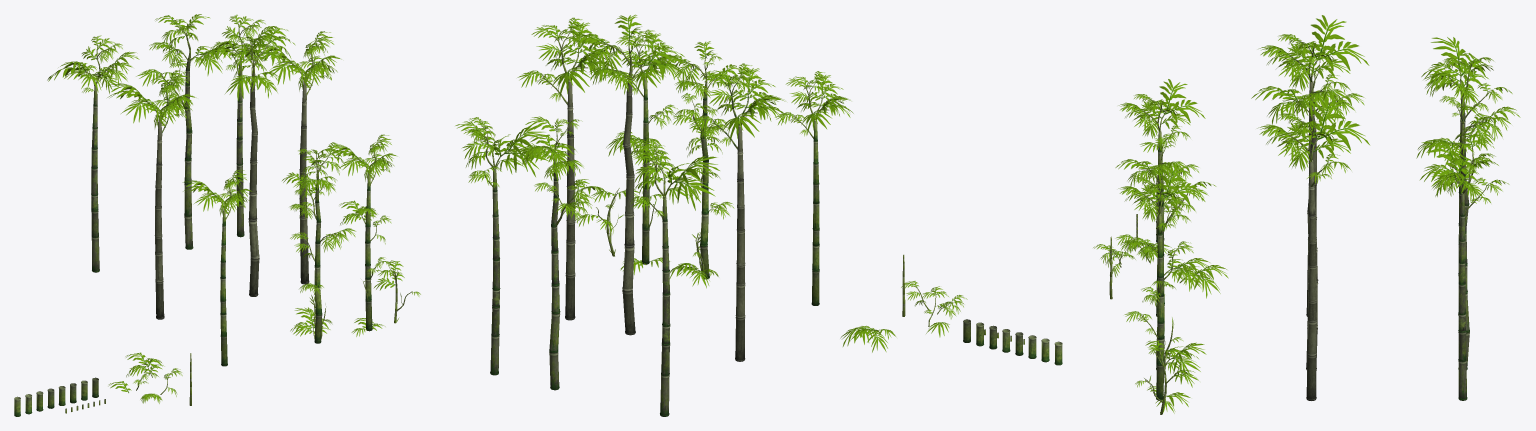
3 renders of one model, left to right at view 1: azimuth 30°, elevation 25°; view 2: azimuth 150°, elevation 25°; view 3: azimuth 270°, elevation 25°, orthographic. The views are drawn at different scales.
Parts seen in each view (by area): view 1: bambooBlock.016_13, bambooBlock.010_19, bambooBlock.013_16, bambooBlock.011_18, bambooBlock.009_20, bambooBlock.014_15, bambooBlock.015_14, bambooBlock.012_17, bambooBlock.008_21, bambooBranch.008_4, bambooBranch.020_0; view 2: bambooBlock.010_19, bambooBlock.011_18, bambooBlock.009_20, bambooBlock.016_13, bambooBlock.014_15, bambooBlock.013_16, bambooBlock.012_17, bambooBlock.015_14, bambooBlock.008_21, bambooBranch.008_4, bambooBranch.020_0; view 3: bambooBlock.009_20, bambooBlock.015_14, bambooBlock.016_13, bambooBlock.012_17, bambooBlock.011_18, bambooBlock.010_19, bambooBlock.013_16, bambooBlock.014_15, bambooBlock.008_21, bambooBranch.008_4, bambooBranch.020_0.
Part boxes in pixels (x1,y1,x2,y2): bambooBlock.016_13: (282, 142, 356, 343); bambooBlock.010_19: (225, 26, 295, 296); bambooBlock.013_16: (136, 14, 232, 249); bambooBlock.011_18: (106, 70, 196, 319); bambooBlock.009_20: (250, 31, 341, 284); bambooBlock.014_15: (47, 35, 139, 272); bambooBlock.015_14: (327, 134, 397, 336); bambooBlock.012_17: (198, 14, 279, 237); bambooBlock.008_21: (182, 170, 252, 366); bambooBranch.008_4: (374, 260, 420, 323); bambooBranch.020_0: (125, 352, 164, 377); bambooBlock.010_19: (566, 14, 685, 335); bambooBlock.011_18: (688, 63, 788, 361); bambooBlock.009_20: (517, 17, 615, 320); bambooBlock.016_13: (658, 41, 744, 288); bambooBlock.014_15: (629, 139, 719, 416); bambooBlock.013_16: (518, 116, 610, 390); bambooBlock.012_17: (455, 117, 550, 375); bambooBlock.015_14: (606, 29, 681, 274); bambooBlock.008_21: (775, 71, 853, 305); bambooBranch.008_4: (575, 188, 639, 256); bambooBranch.020_0: (840, 325, 895, 352); bambooBlock.009_20: (1257, 96, 1369, 400); bambooBlock.015_14: (1118, 162, 1211, 413); bambooBlock.016_13: (1115, 133, 1216, 380); bambooBlock.012_17: (1419, 139, 1509, 400); bambooBlock.011_18: (1259, 15, 1369, 316); bambooBlock.010_19: (1251, 52, 1364, 369); bambooBlock.013_16: (1416, 95, 1520, 369); bambooBlock.014_15: (1421, 37, 1512, 315); bambooBlock.008_21: (1118, 79, 1205, 316); bambooBranch.008_4: (1135, 340, 1198, 414); bambooBranch.020_0: (1179, 265, 1228, 298).
Size of the model in its own units: 72.67 by 47.04 by 56.86.
5 materials, 5 textured.
